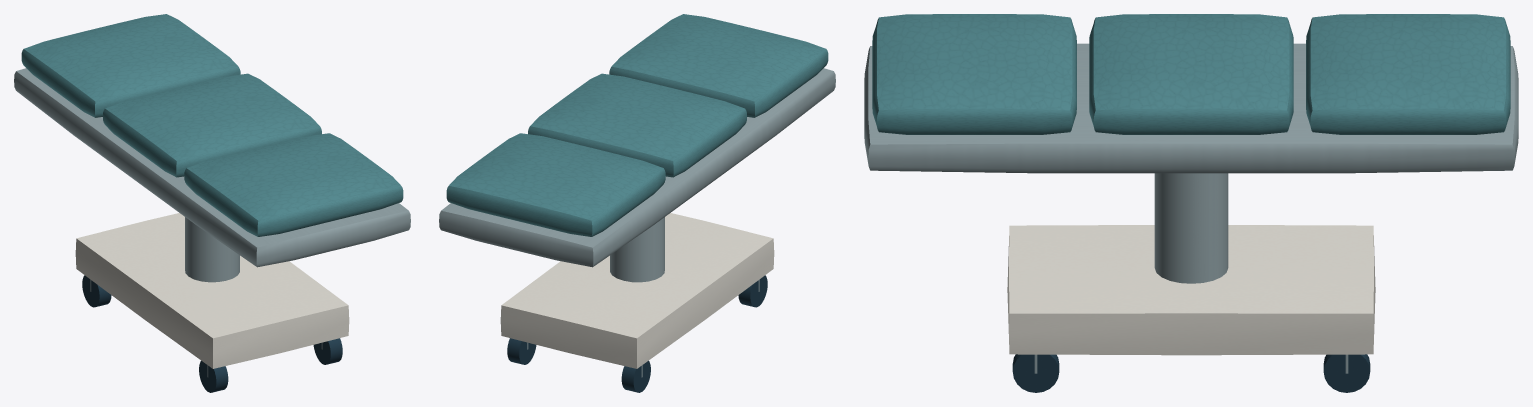
File: operating-table.glb
3 views of the same model, side by side, from view 1: azimuth 30°, elevation 25°; view 2: azimuth 150°, elevation 25°; view 3: azimuth 270°, elevation 25° (orthographic). The views are drawn at different scales.
Visible parts, largest first — view 1: operating-table; view 2: operating-table; view 3: operating-table.
Part boxes in pixels (<box>): operating-table: <box>14,14,410,392</box>; operating-table: <box>439,14,835,392</box>; operating-table: <box>864,14,1518,392</box>.
Size of the model in its own units: 0.6 by 0.805 by 1.6.
14 materials, 14 textured.
